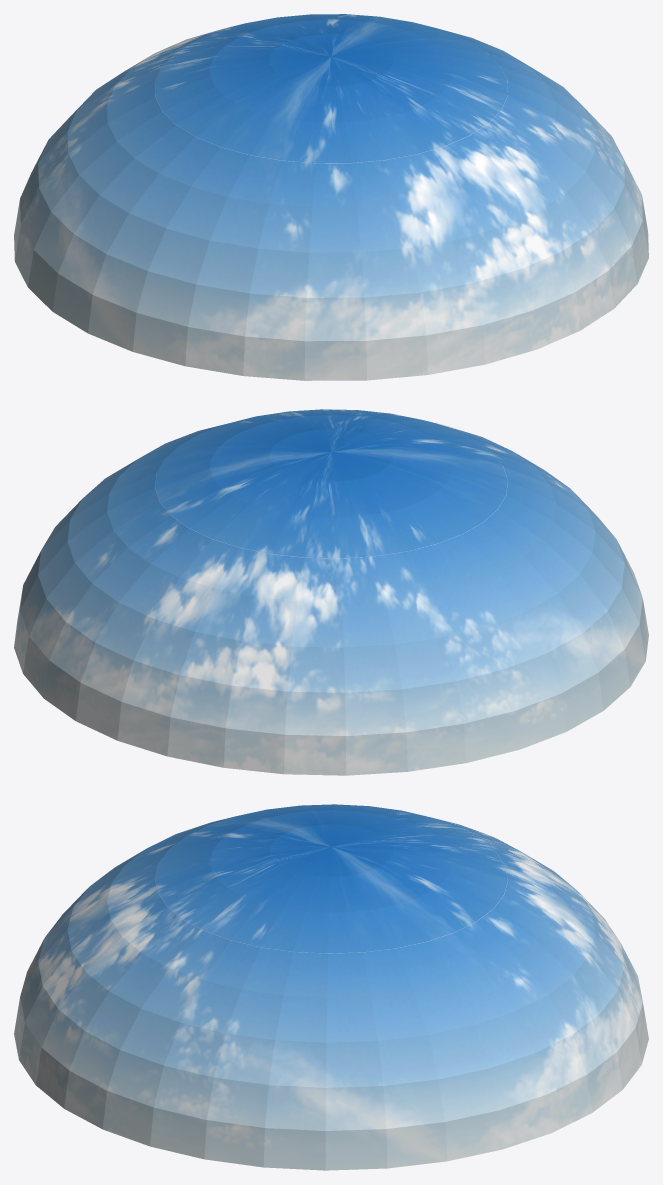
Rendered from lagunaseca_sky.glb.
The picture shows the model from 3 angles, top to bottom: view 1: azimuth 30°, elevation 25°; view 2: azimuth 150°, elevation 25°; view 3: azimuth 270°, elevation 25°; orthographic projection.
Bounding box in the file's own units: 2200 × 724 × 2200.
2 materials, 2 textured.
